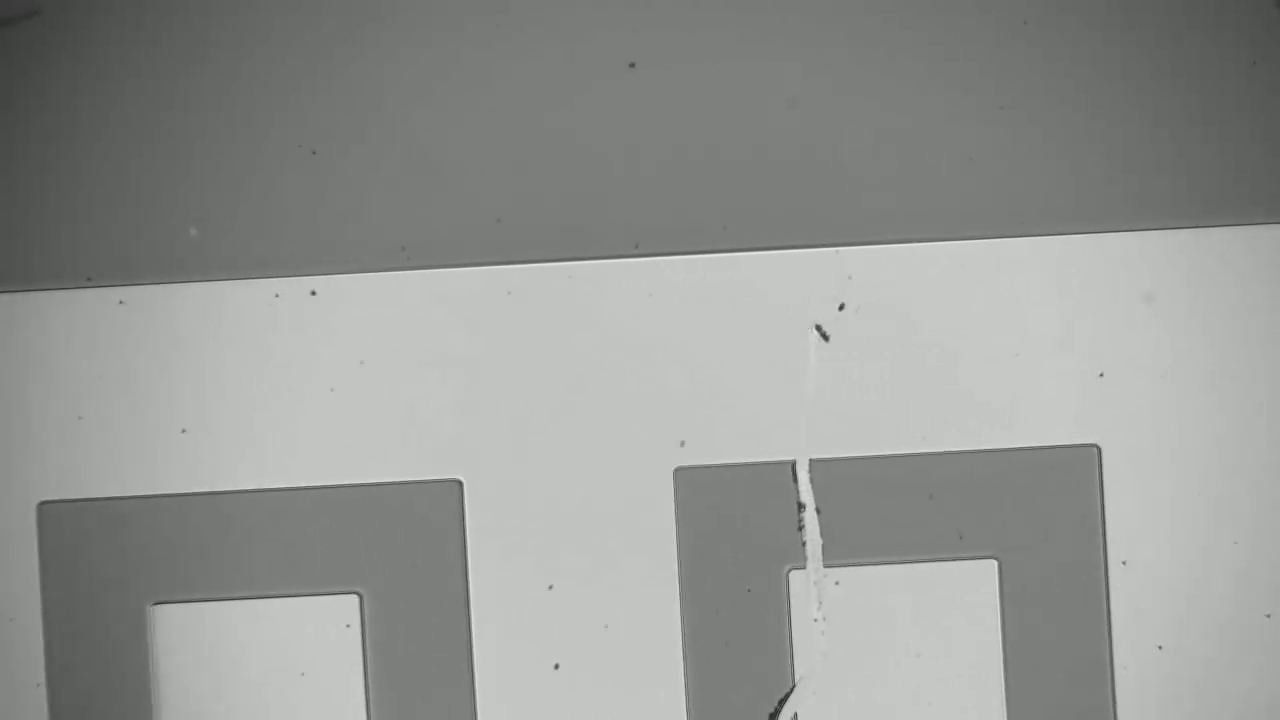stains_enbedded: (779, 438, 858, 588)
